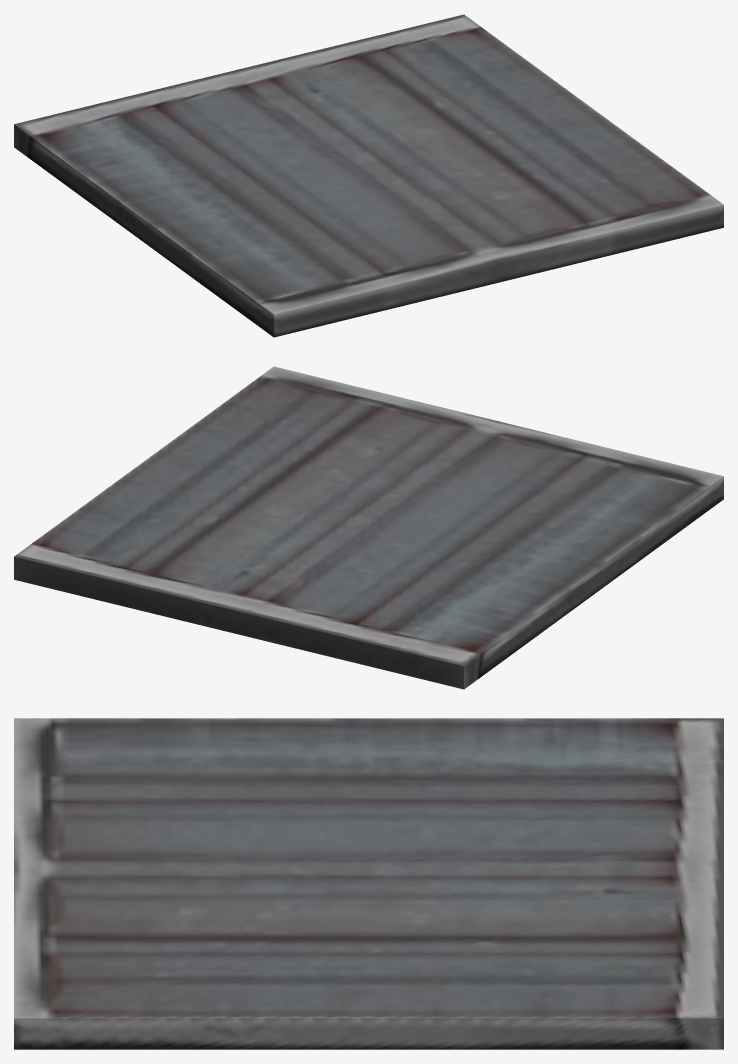
File: c9031d20-d8bd-40c9-8d0a-8cbff2f32b4c.glb
3 renders of one model, top to bottom at view 1: azimuth 30°, elevation 25°; view 2: azimuth 150°, elevation 25°; view 3: azimuth 270°, elevation 25°, orthographic. The views are drawn at different scales.
Visible parts, largest first — view 1: Balcony Cover Base; view 2: Balcony Cover Base; view 3: Balcony Cover Base.
Part boxes in pixels (box(x1,y1,x2,y2)): Balcony Cover Base: box(14, 14, 723, 337); Balcony Cover Base: box(14, 366, 723, 689); Balcony Cover Base: box(14, 718, 723, 1049).
Size of what is drawn, in the model's own units: 2.25 by 0.1102 by 2.25.
1 material, 1 textured.
